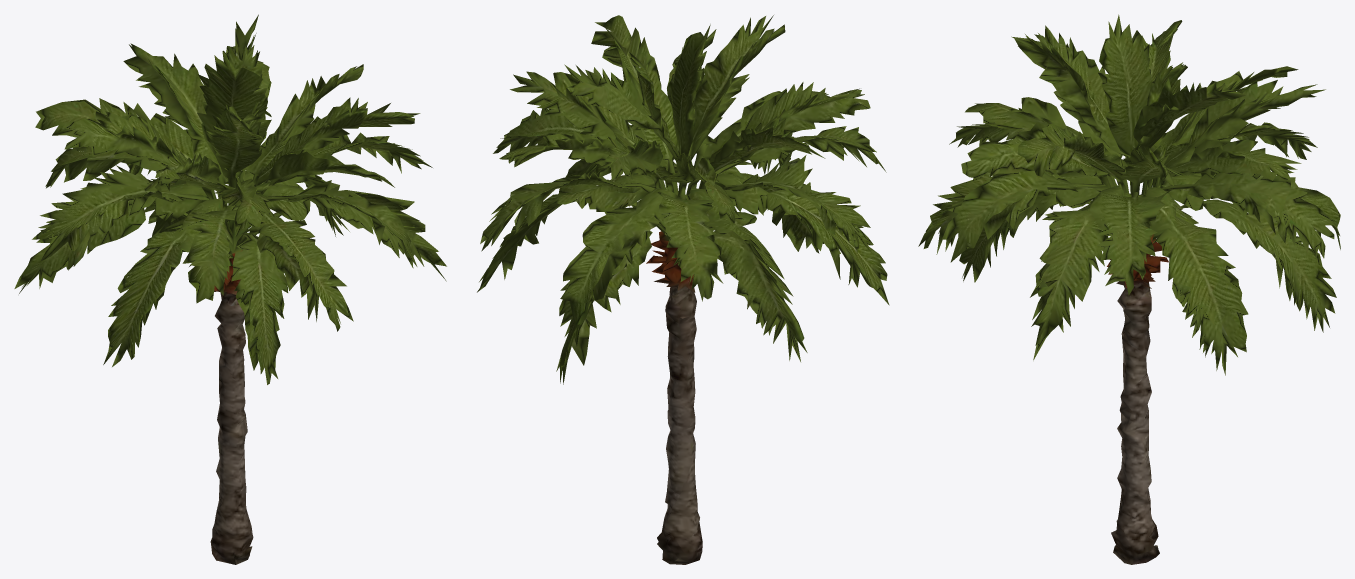
The model's file is palm.glb.
3 renders of one model, left to right at view 1: azimuth 30°, elevation 25°; view 2: azimuth 150°, elevation 25°; view 3: azimuth 270°, elevation 25°, orthographic. The views are drawn at different scales.
Parts seen in each view (by area): view 1: tripo_node_4b110c28-24dc-460c-86fc-003317e0d608; view 2: tripo_node_4b110c28-24dc-460c-86fc-003317e0d608; view 3: tripo_node_4b110c28-24dc-460c-86fc-003317e0d608.
Boxes of the visible parts, bbox=[...] form: tripo_node_4b110c28-24dc-460c-86fc-003317e0d608: bbox=[14, 14, 446, 564]; tripo_node_4b110c28-24dc-460c-86fc-003317e0d608: bbox=[477, 15, 889, 564]; tripo_node_4b110c28-24dc-460c-86fc-003317e0d608: bbox=[918, 14, 1340, 564].
Bounding box in the file's own units: 0.7634 × 1 × 0.7209.
1 material, 1 textured.
